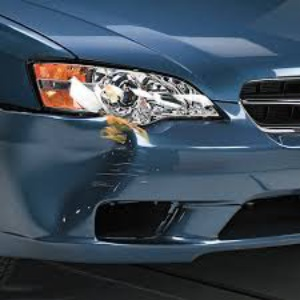bumper_scratch: (65, 133, 163, 196)
